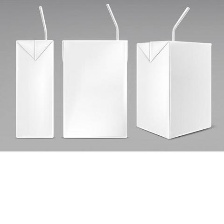carton: (134, 36, 218, 144), (58, 34, 132, 141), (10, 35, 57, 144)
drinking_straw: (102, 1, 125, 44), (171, 4, 194, 40), (35, 3, 52, 40)
